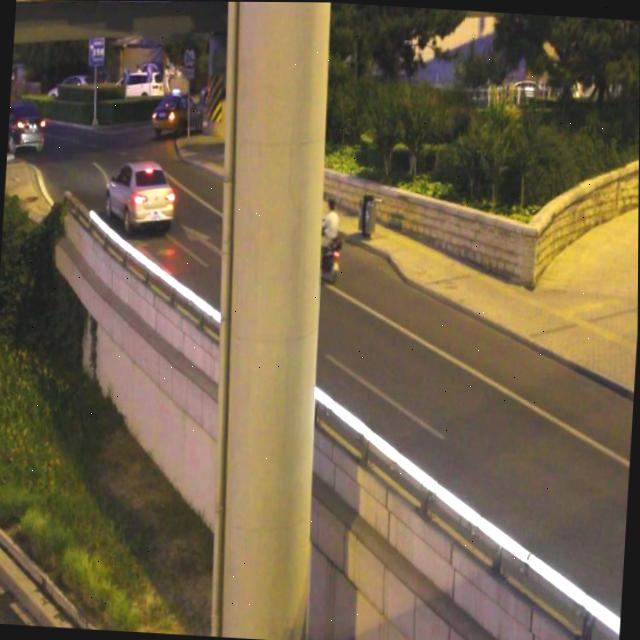car: (107, 163, 177, 225), (151, 90, 203, 136)
